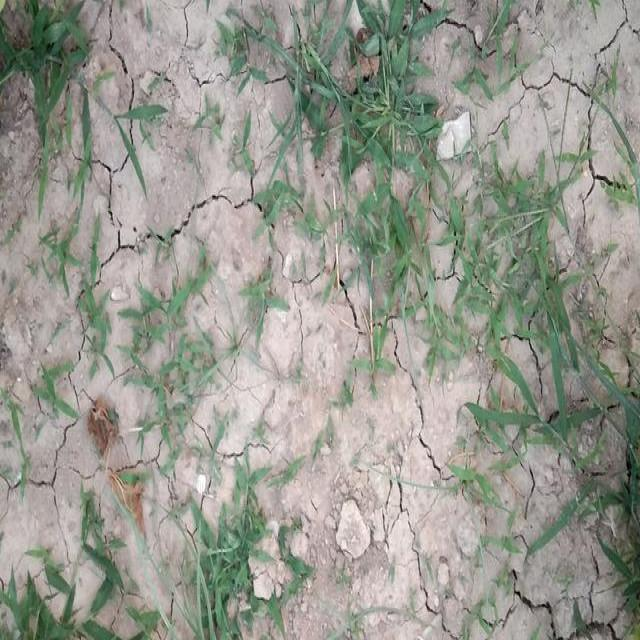weed: (442, 163, 628, 410), (255, 0, 465, 196), (14, 10, 164, 214), (551, 413, 640, 636), (9, 533, 167, 640), (178, 497, 270, 639), (348, 189, 441, 323), (42, 234, 115, 380), (140, 289, 207, 441), (242, 268, 287, 340), (193, 101, 239, 161)
